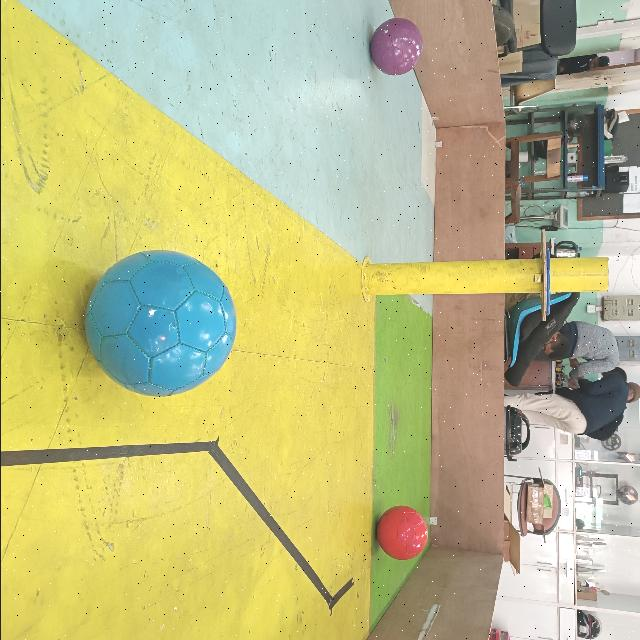B: (81, 248, 239, 398)
P: (368, 15, 424, 77)
R: (372, 503, 428, 563)
